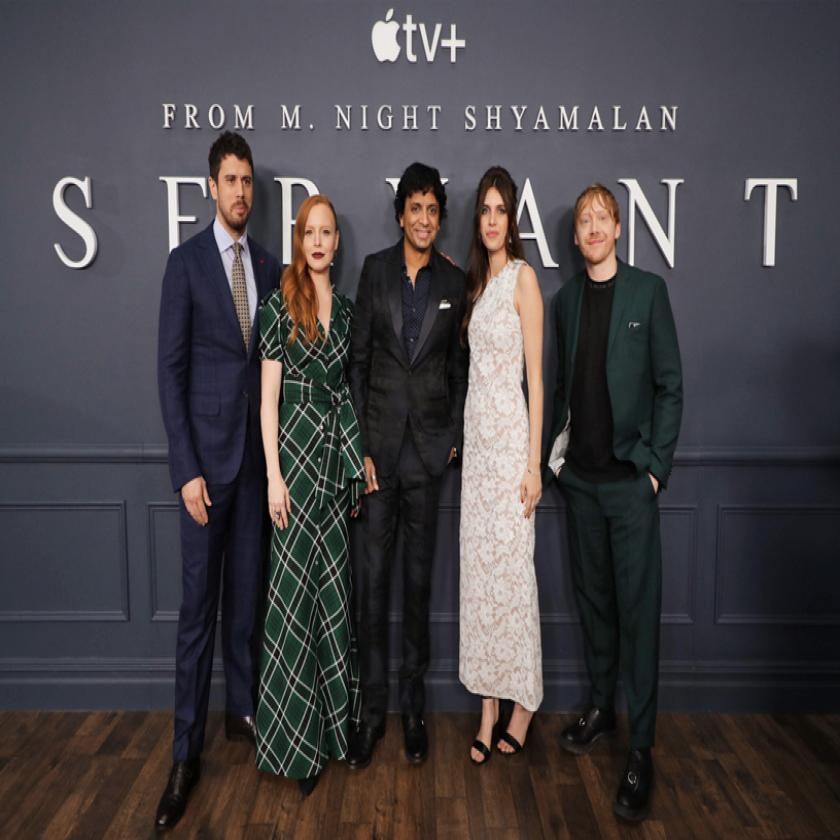Sin_casco: (385, 148, 445, 262), (286, 190, 349, 286), (570, 180, 622, 281), (210, 123, 260, 226), (472, 158, 518, 264)
